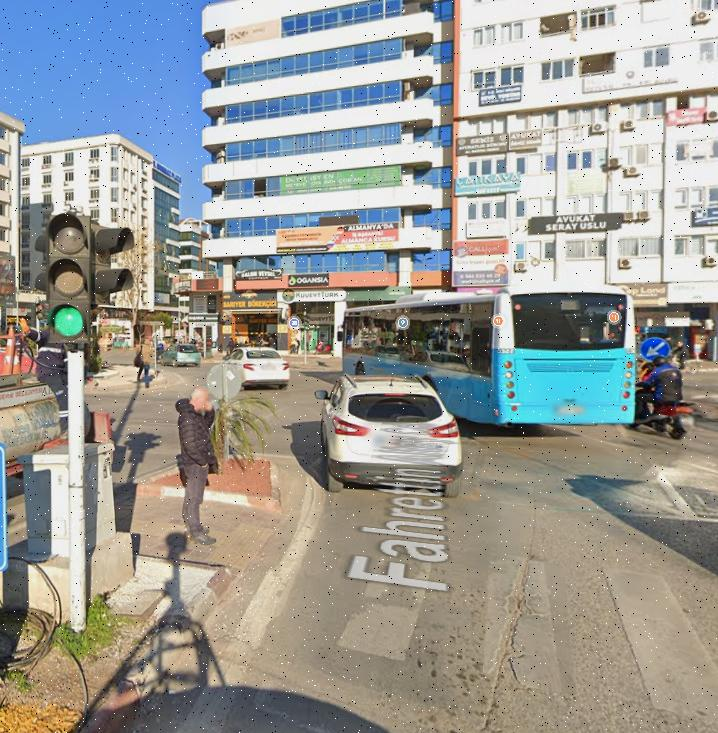greenlight: (40, 214, 95, 343)
